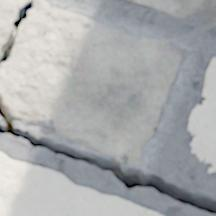brick: (0, 152, 161, 215), (187, 58, 215, 172), (126, 0, 215, 27)
broken_brick: (0, 0, 181, 164), (0, 0, 28, 48)
crack: (0, 94, 215, 214), (0, 0, 33, 69)
